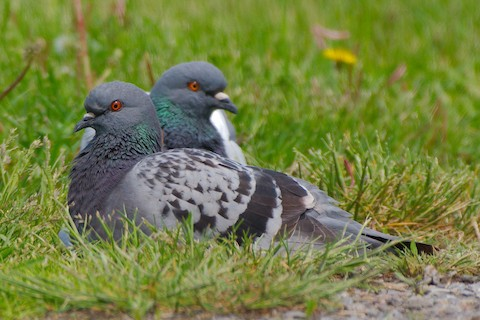pigeon: (58, 73, 320, 262), (62, 59, 262, 261)
